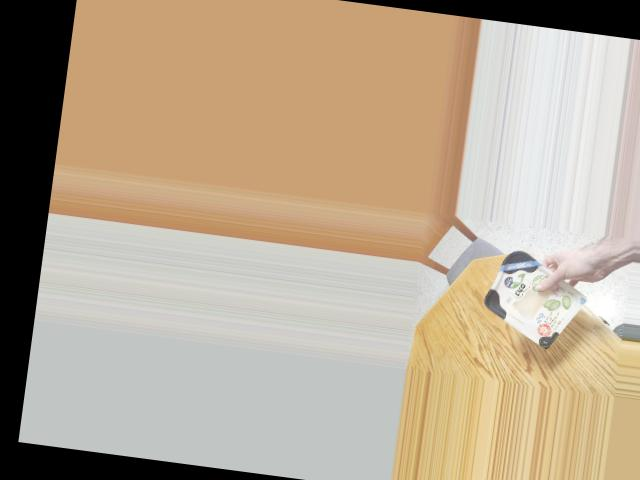cheese: (481, 249, 580, 346)
